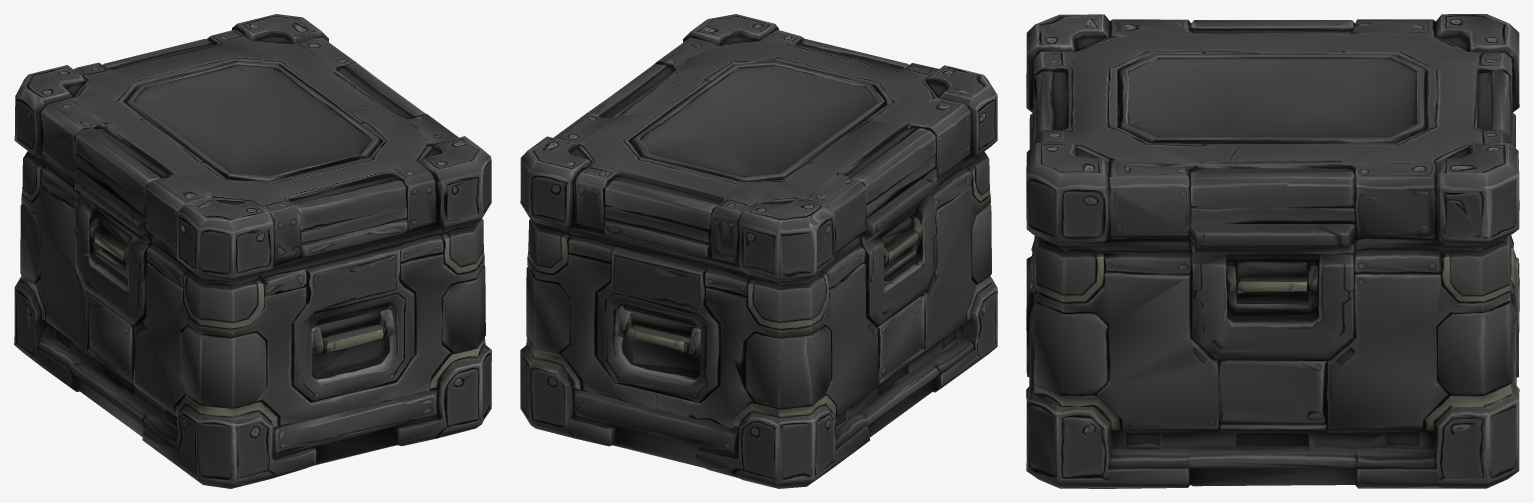
The model's file is corridor_crate.glb.
3 renders of one model, left to right at view 1: azimuth 30°, elevation 25°; view 2: azimuth 150°, elevation 25°; view 3: azimuth 270°, elevation 25°, orthographic. The views are drawn at different scales.
Size of the model in its own units: 0.8288 by 0.7054 by 0.9991.
Materials: 1 (1 with a texture image).
